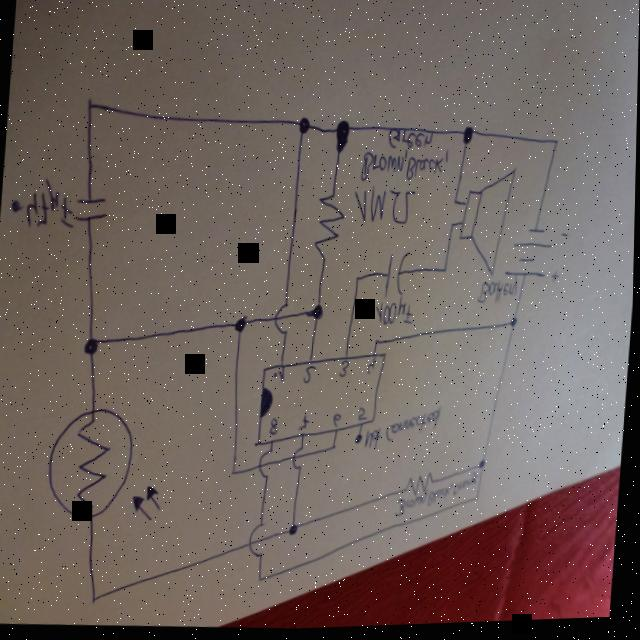capacitor: (380, 249, 413, 303), (71, 193, 109, 230)
crossover: (250, 524, 273, 563), (272, 304, 295, 340), (257, 453, 278, 484), (292, 451, 305, 475)
junction: (331, 116, 353, 156), (82, 336, 102, 361), (295, 118, 312, 141), (310, 304, 327, 326), (460, 128, 475, 151), (233, 318, 249, 338), (83, 98, 97, 117), (289, 525, 302, 541), (92, 595, 102, 609), (509, 321, 520, 333), (479, 462, 488, 474), (353, 277, 362, 288), (552, 143, 561, 153), (258, 578, 267, 588), (231, 471, 239, 480), (443, 271, 450, 279), (475, 500, 482, 507), (449, 225, 455, 233), (453, 203, 459, 211), (375, 342, 381, 350), (332, 448, 338, 455)
resistor: (45, 404, 170, 527), (312, 193, 345, 270), (406, 474, 438, 503)
source: (506, 227, 571, 292)
terminal: (354, 436, 365, 450)
text: (395, 471, 482, 526), (357, 149, 452, 194), (365, 405, 444, 457), (351, 187, 423, 231), (20, 177, 75, 233), (477, 277, 520, 312), (385, 131, 435, 156), (374, 303, 415, 330), (304, 367, 319, 389), (339, 363, 352, 383), (299, 417, 311, 436), (269, 421, 280, 440), (273, 370, 286, 386), (368, 364, 377, 379), (334, 417, 343, 431), (359, 411, 368, 425)
